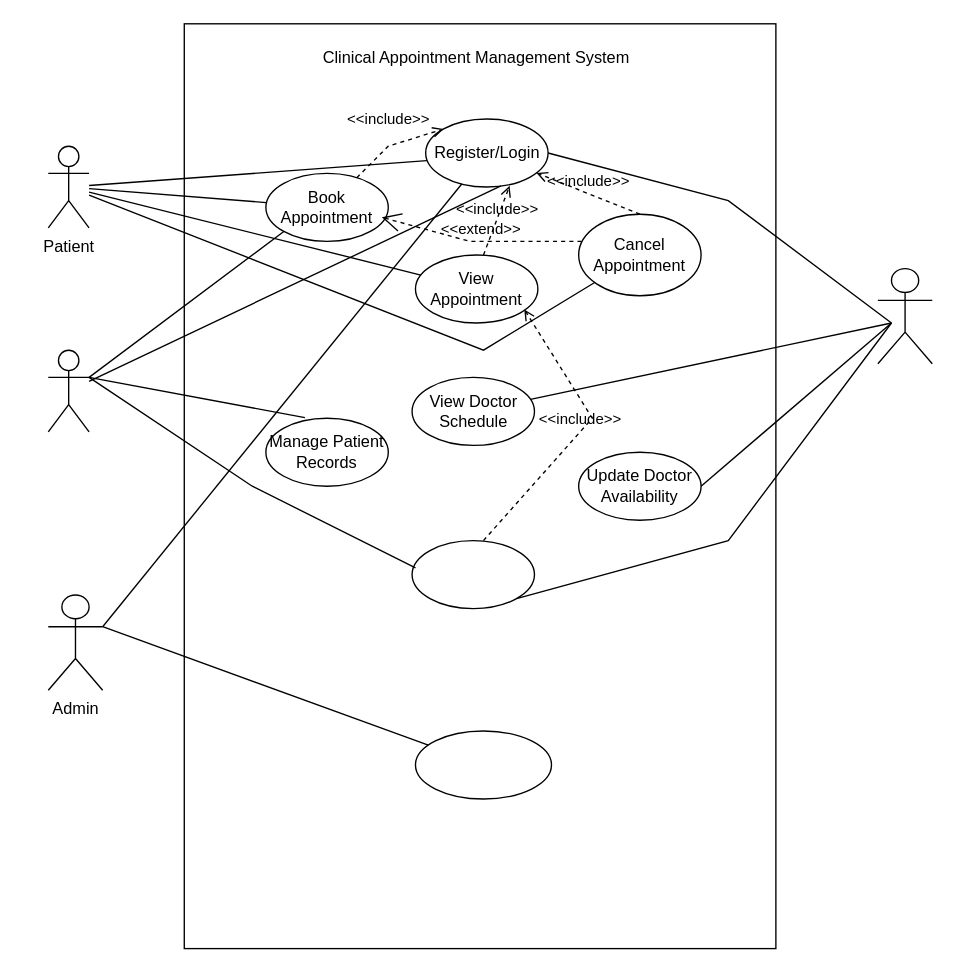
Some shapes in this 956 by 972 pixel diagram are drawn without their labels. Each missing label, with the centre of its shape:
Doctor: point 904,315
Manage Appointments: point 472,574
Manage Users: point 482,764
Receptionist: point 68,390
